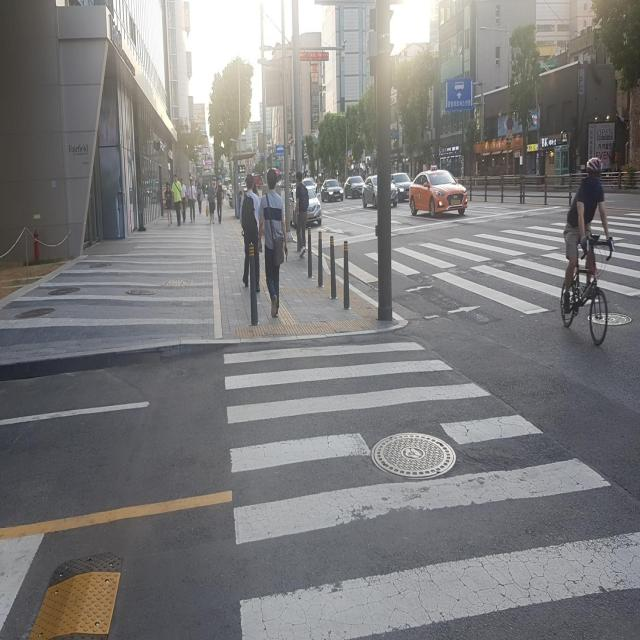횡단보도: (224, 345, 640, 636), (341, 207, 640, 324)
